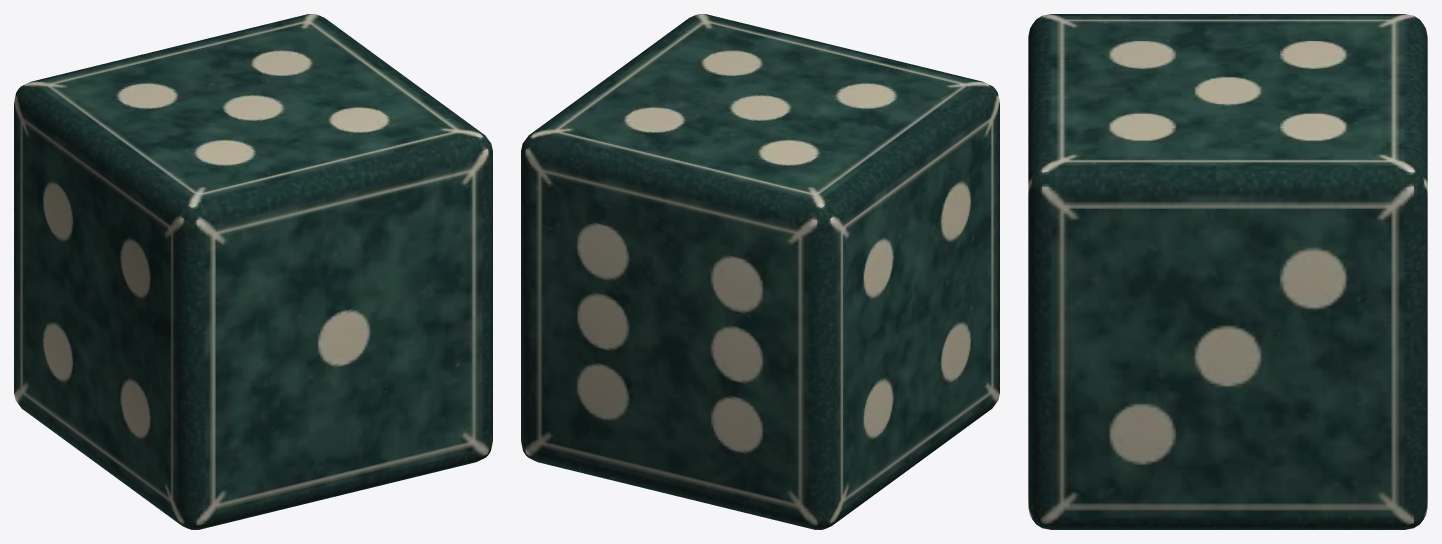
The model's file is argonian-d6.glb.
3 views of the same model, side by side, from view 1: azimuth 30°, elevation 25°; view 2: azimuth 150°, elevation 25°; view 3: azimuth 270°, elevation 25° (orthographic). The views are drawn at different scales.
Parts seen in each view (by area): view 1: argonian_d6; view 2: argonian_d6; view 3: argonian_d6.
Boxes of the visible parts, x1,y1,x2,y2 form: argonian_d6: (14, 14, 492, 529); argonian_d6: (521, 14, 999, 529); argonian_d6: (1028, 14, 1427, 529).
Size of the model in its own units: 1.4 by 1.4 by 1.4.
Materials: 1 (1 with a texture image).
